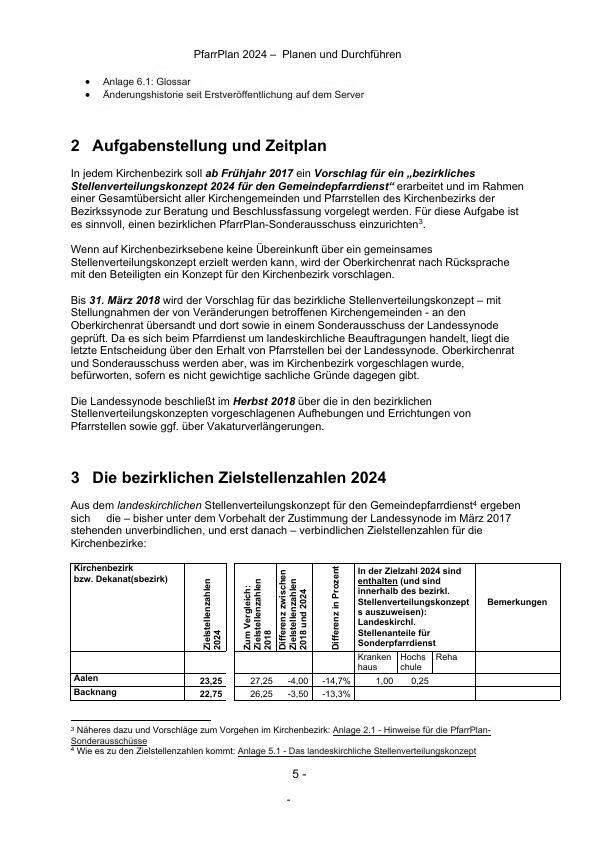table: (66, 558, 564, 705)
text: (64, 132, 537, 439), (66, 464, 535, 553), (66, 722, 497, 763), (94, 72, 370, 106), (189, 43, 404, 64)
